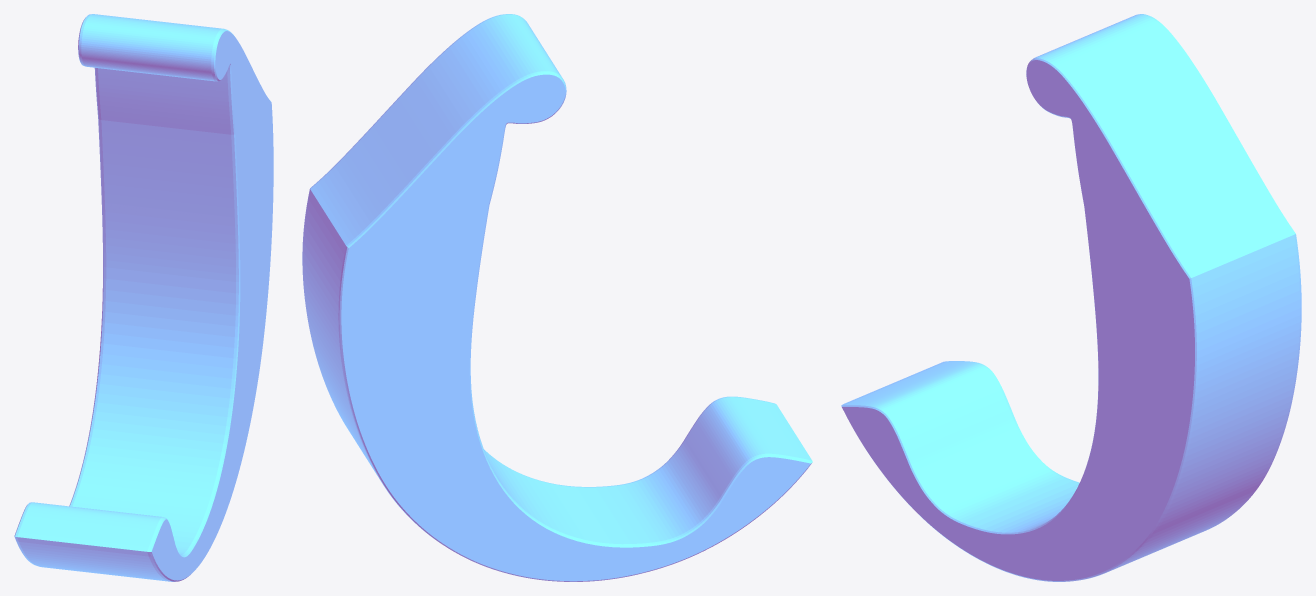
The picture shows the model from 3 angles, left to right: view 1: azimuth 30°, elevation 25°; view 2: azimuth 150°, elevation 25°; view 3: azimuth 270°, elevation 25°; orthographic projection. The views are drawn at different scales.
Visible parts, largest first — view 1: a934dd31-b5c0-4eb5-aceb-dc12d049db4f; view 2: a934dd31-b5c0-4eb5-aceb-dc12d049db4f; view 3: a934dd31-b5c0-4eb5-aceb-dc12d049db4f.
Part boxes in pixels (<box>): a934dd31-b5c0-4eb5-aceb-dc12d049db4f: <box>14,14,273,581</box>; a934dd31-b5c0-4eb5-aceb-dc12d049db4f: <box>302,14,812,581</box>; a934dd31-b5c0-4eb5-aceb-dc12d049db4f: <box>841,14,1301,581</box>.
Bounding box in the file's own units: 18.1 × 22.96 × 18.1.
